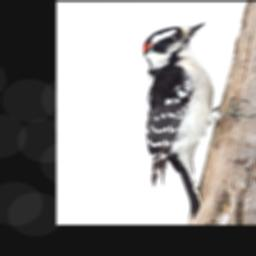Woodpecker: (139, 20, 256, 220)
